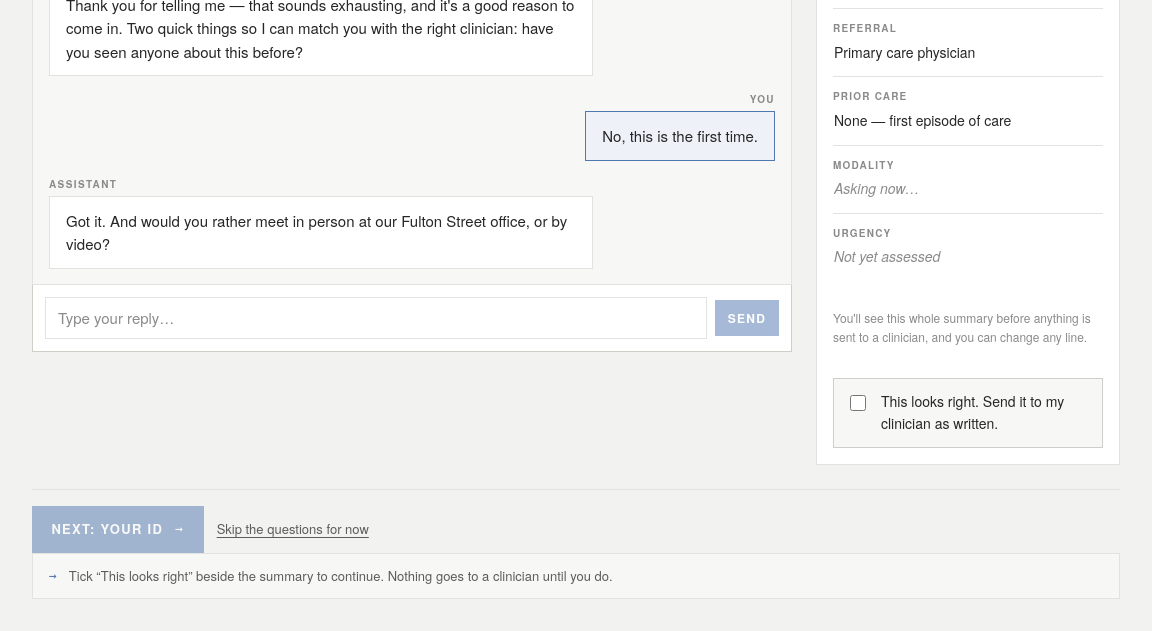
assessment screen › withdraws the acknowledgement when a summary line is edited
The width and height of the screenshot is (1152, 631).
(page scrolled)
Click the checkbox labelled "This looks right. Send it to my clinician as written." at (858, 403), box [850,395,866,411]
(page scrolled)
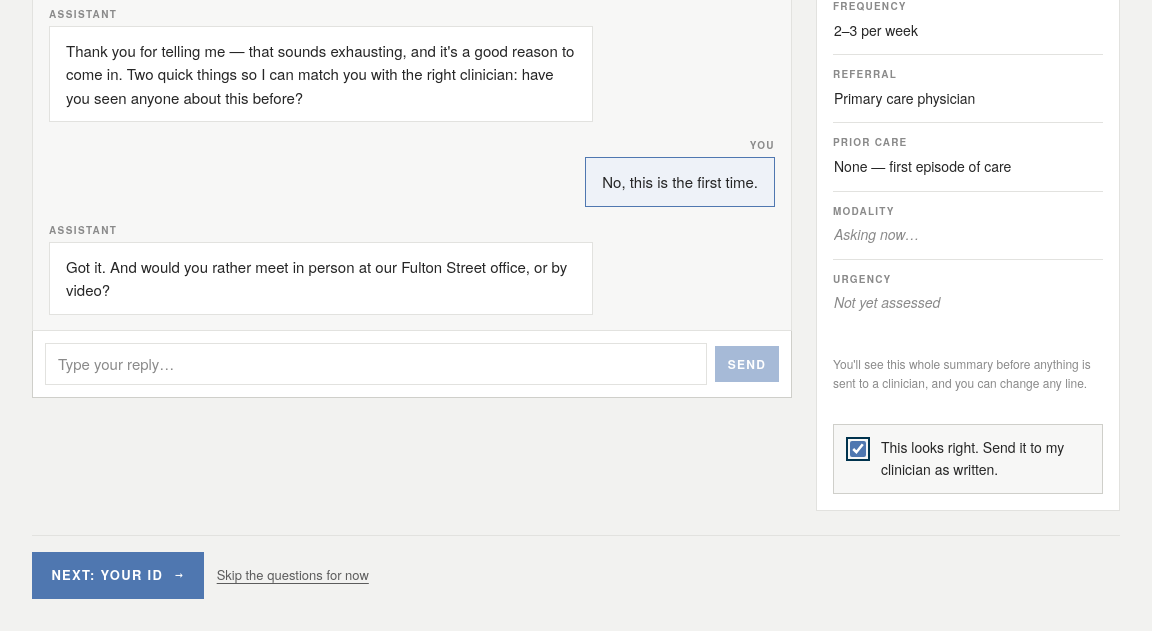
Type " (roughly)" into the field labelled "Frequency" at (964, 30), box [829,14,1099,46]
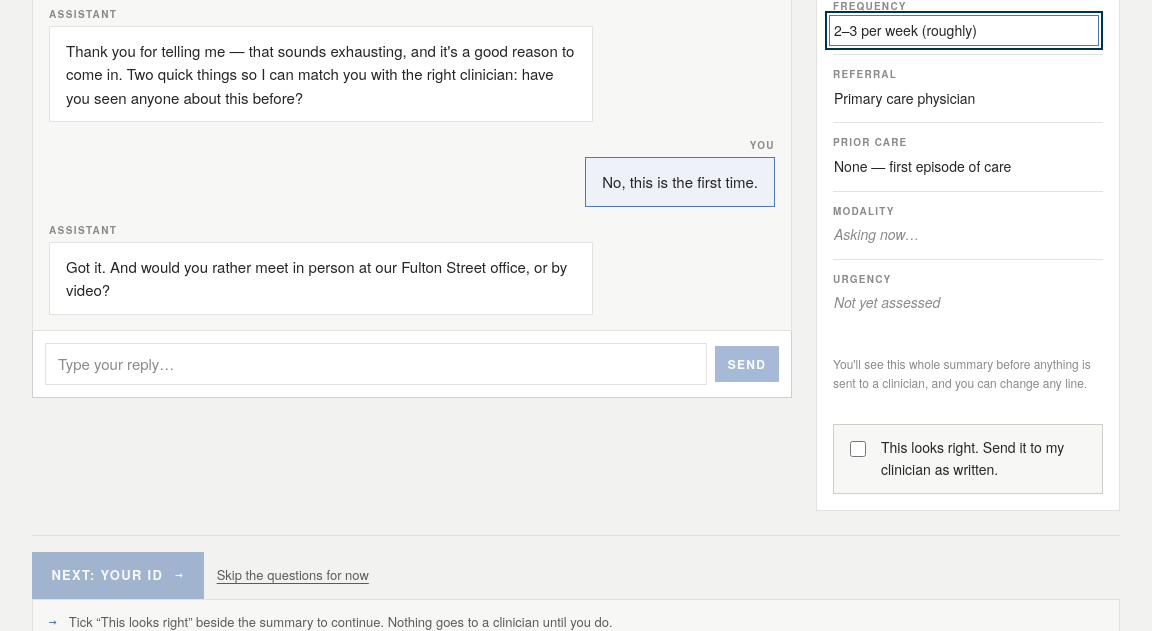
Result: the button "Next: your ID →" is disabled at [32,552,204,599]
